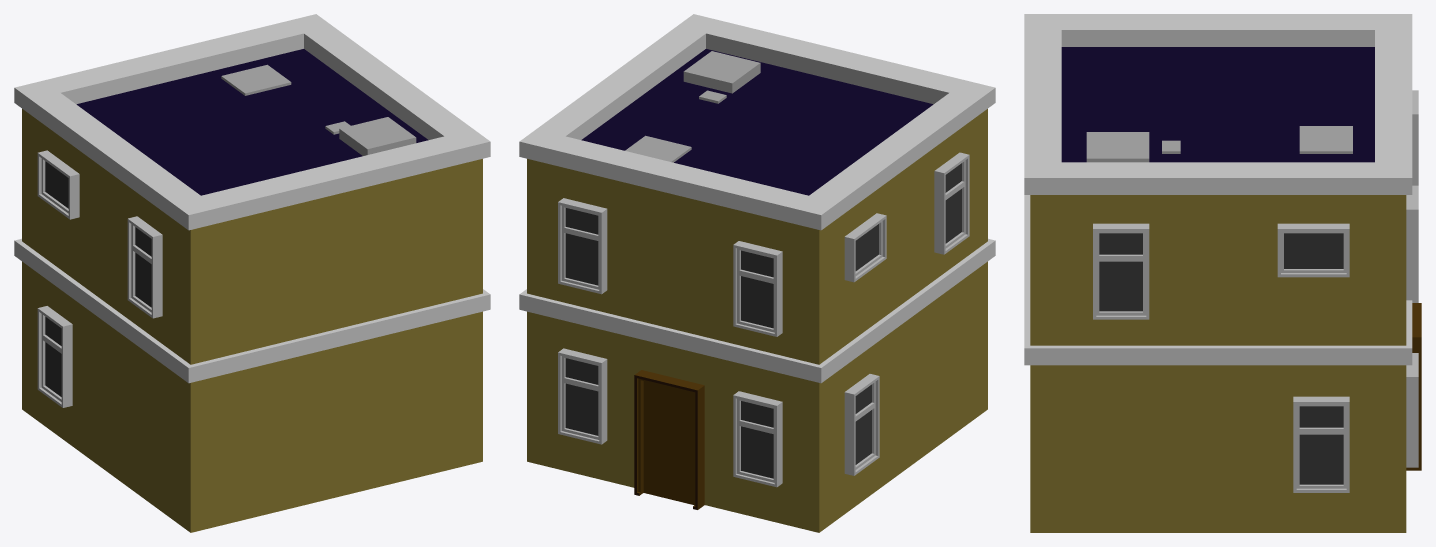
The model's file is Building_2 (1).fbx.
The picture shows the model from 3 angles, left to right: view 1: azimuth 30°, elevation 25°; view 2: azimuth 150°, elevation 25°; view 3: azimuth 270°, elevation 25°; orthographic projection. The views are drawn at different scales.
Visible parts, largest first — view 1: Building_2; view 2: Building_2; view 3: Building_2.
Part boxes in pixels (bbox=[...]): Building_2: bbox=[14, 14, 490, 532]; Building_2: bbox=[519, 14, 995, 532]; Building_2: bbox=[1024, 14, 1421, 532].
Size of the model in its own units: 640 by 630 by 635.
